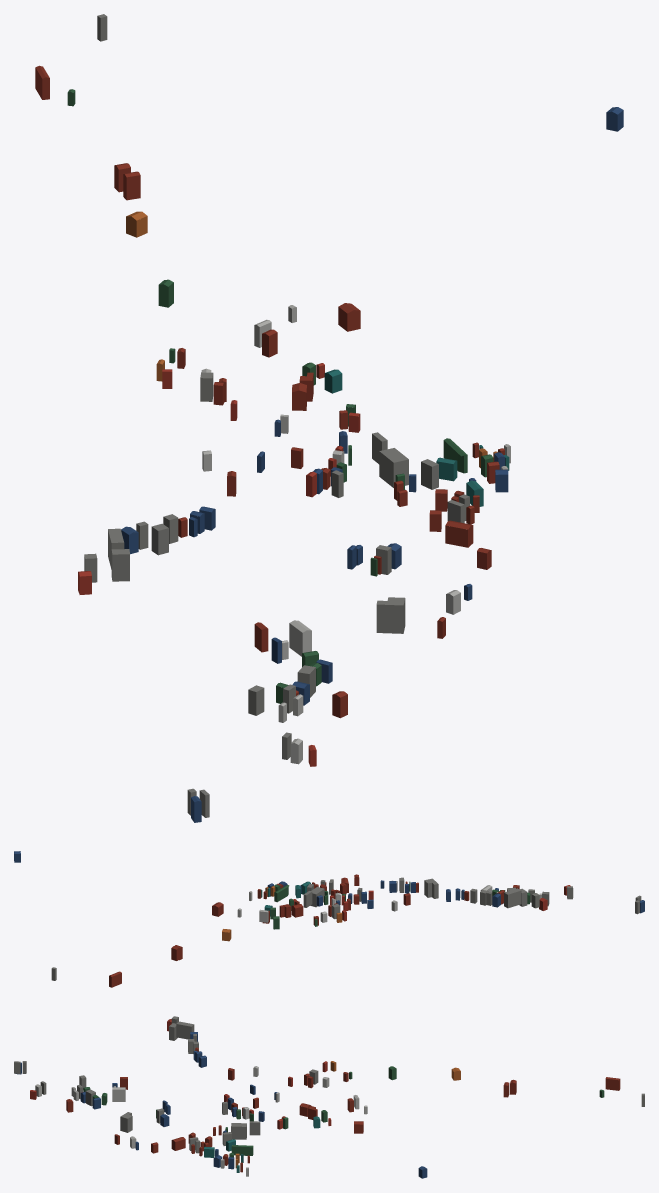
The model's file is near-15-27351-14874.17eb424c.glb.
3 renders of one model, top to bottom at view 1: azimuth 30°, elevation 25°; view 2: azimuth 150°, elevation 25°; view 3: azimuth 270°, elevation 25°, orthographic. The views are drawn at different scales.
Bounding box in the file's own units: 874 × 217 × 1143.
